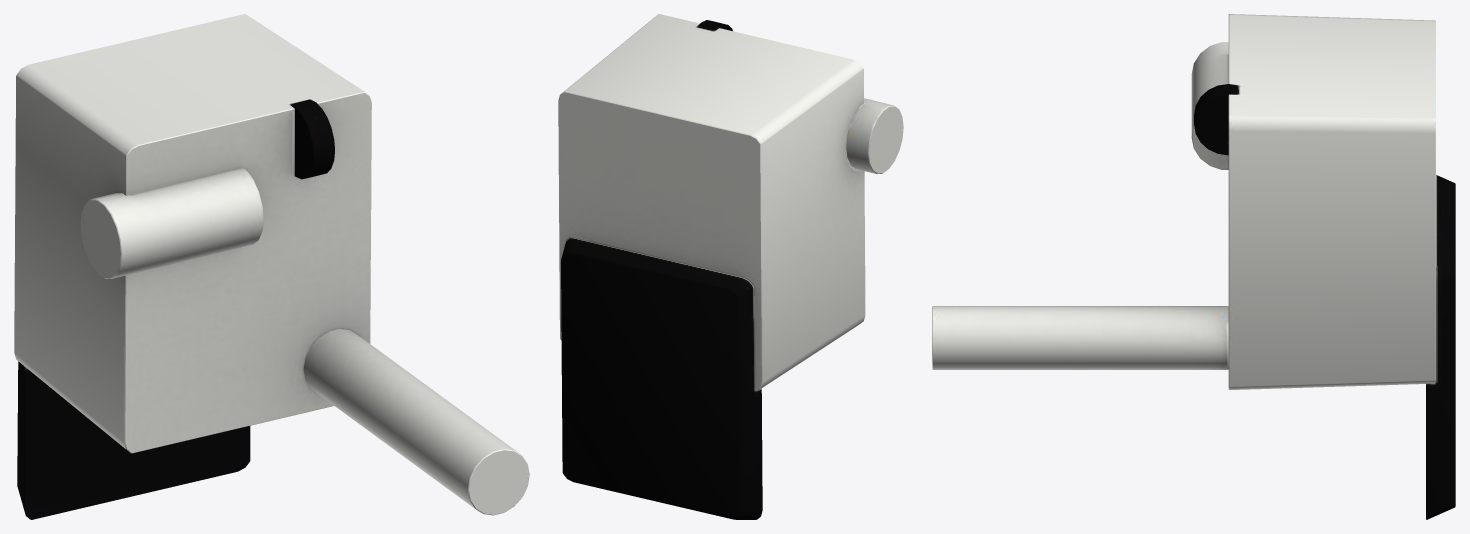
Rendered from LV_pool_pump.glb.
3 views of the same model, side by side, from view 1: azimuth 30°, elevation 25°; view 2: azimuth 150°, elevation 25°; view 3: azimuth 270°, elevation 25° (orthographic). The views are drawn at different scales.
Parts seen in each view (by area): view 1: LV_pool_pump; view 2: LV_pool_pump; view 3: LV_pool_pump.
Part boxes in pixels (box(x1,y1,x2,y2)): LV_pool_pump: box(14, 14, 529, 519); LV_pool_pump: box(558, 14, 903, 519); LV_pool_pump: box(932, 14, 1455, 519).
Size of the model in its own units: 0.57 by 0.9195 by 1.06.
1 material, 1 textured.
